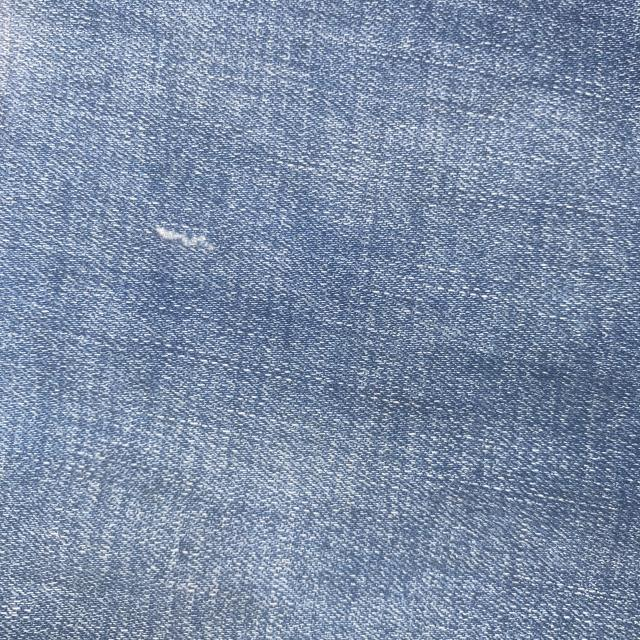Knot: (154, 226, 214, 250)
